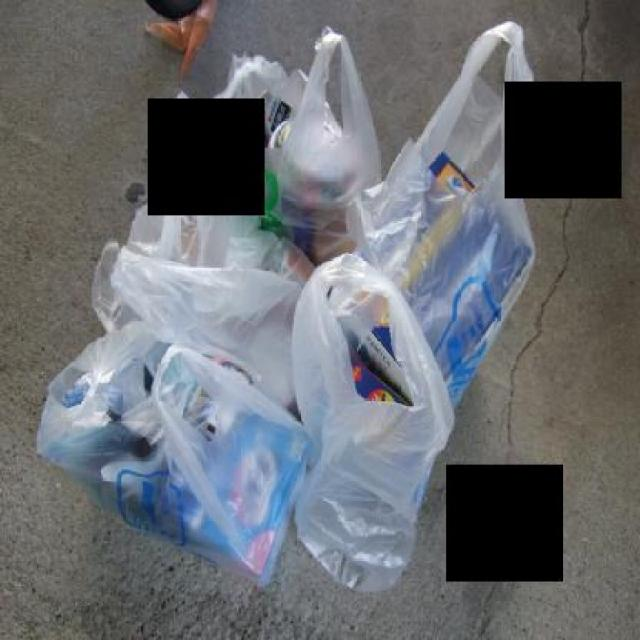plastic bag: (36, 23, 538, 591)
